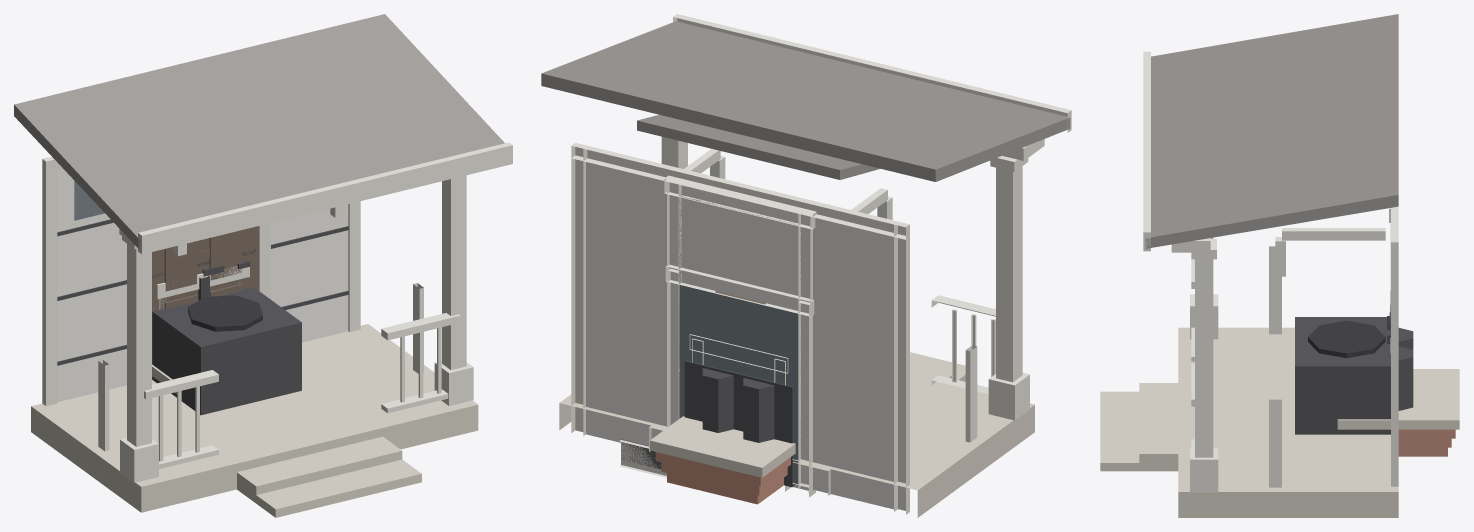
File: house-kit.glb
3 views of the same model, side by side, from view 1: azimuth 30°, elevation 25°; view 2: azimuth 150°, elevation 25°; view 3: azimuth 270°, elevation 25° (orthographic). The views are drawn at different scales.
Visible parts, largest first — view 1: porch, door-garage, ac-unit, door-entry, window-small; view 2: door-garage, porch, chimney-cap, window-house, stoop, door-entry, ac-unit, window-small, gutter; view 3: porch, ac-unit, chimney-cap, door-garage, stoop.
Part boxes in pixels (box(x1,y1,x2,y2)): porch: box(14, 14, 512, 517); door-garage: box(42, 156, 360, 406); ac-unit: box(152, 287, 301, 415); door-entry: box(152, 223, 270, 379); window-small: box(156, 266, 249, 309); door-garage: box(571, 143, 909, 514); porch: box(541, 14, 1071, 517); chimney-cap: box(650, 368, 795, 504); window-house: box(665, 264, 815, 497); stoop: box(637, 114, 892, 495); door-entry: box(664, 175, 816, 492); ac-unit: box(684, 360, 794, 487); window-small: box(689, 334, 790, 491); gutter: box(619, 439, 666, 477); porch: box(1100, 14, 1398, 517); ac-unit: box(1295, 317, 1390, 434); chimney-cap: box(1337, 328, 1459, 456); door-garage: box(1389, 206, 1398, 486); stoop: box(1275, 228, 1385, 276).
Size of the model in its own units: 3.3 by 2.99 by 2.77.
